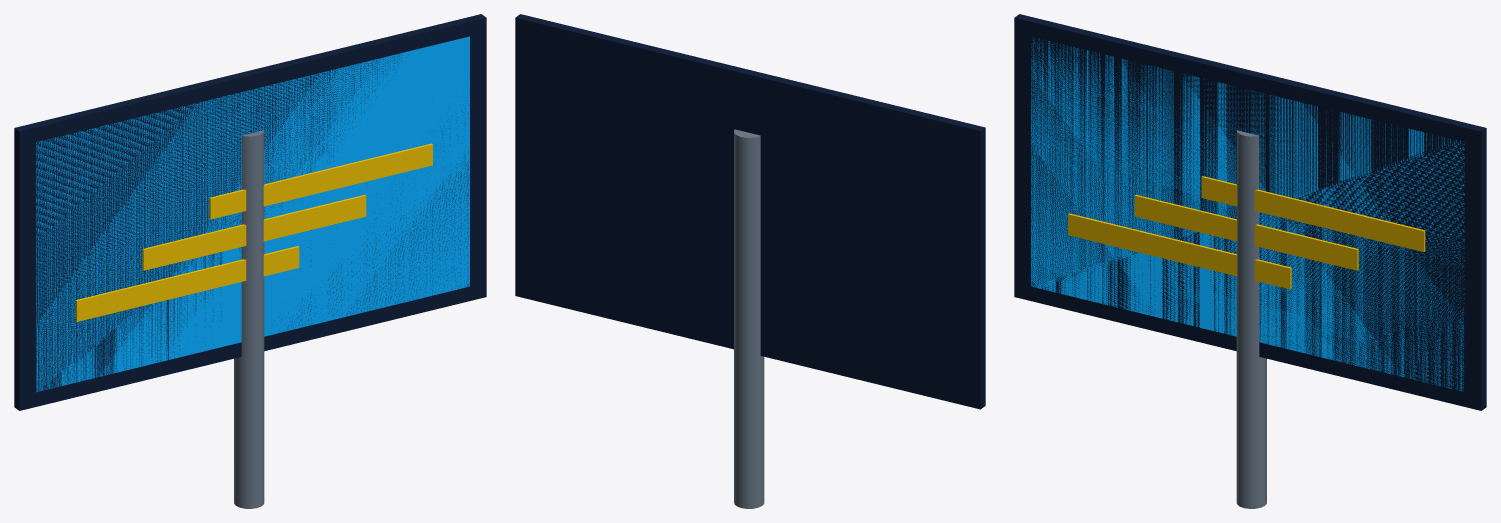
The model's file is billboard_2005.glb.
3 views of the same model, side by side, from view 1: azimuth 30°, elevation 25°; view 2: azimuth 150°, elevation 25°; view 3: azimuth 330°, elevation 25° (orthographic).
Visible parts, largest first — view 1: billboard_2005; view 2: billboard_2005; view 3: billboard_2005.
Boxes of the visible parts, x1,y1,x2,y2 form: billboard_2005: [14, 14, 486, 508]; billboard_2005: [515, 14, 985, 508]; billboard_2005: [1014, 14, 1486, 508].
Bounding box in the file's own units: 4.2 × 3.7 × 0.24.
